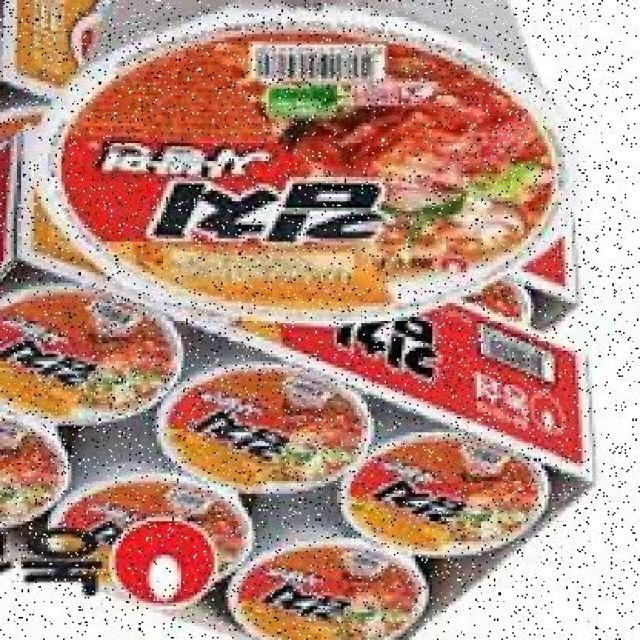Miscellaneous: (27, 0, 566, 314), (148, 335, 372, 503), (42, 424, 244, 601), (360, 404, 557, 567), (210, 491, 418, 640), (0, 265, 174, 433), (0, 406, 69, 542)
